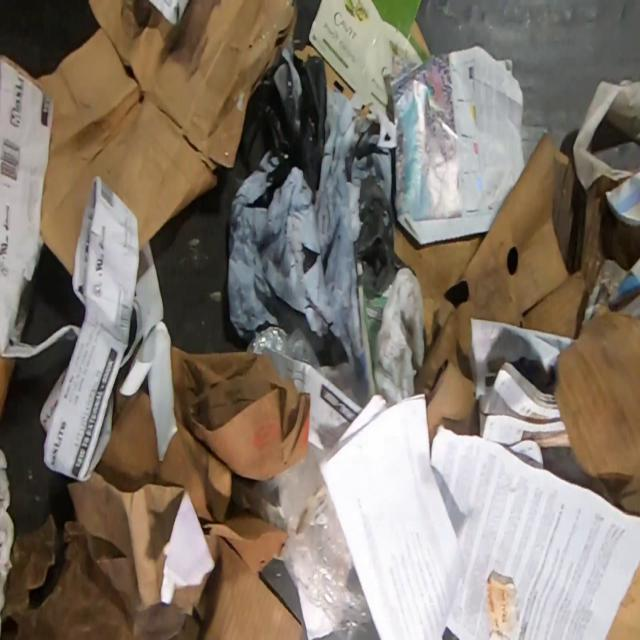cardboard: (36, 0, 298, 276), (394, 129, 606, 454), (96, 345, 311, 579), (66, 471, 304, 640), (554, 308, 640, 487), (309, 0, 424, 113), (294, 44, 354, 102), (602, 562, 640, 640), (410, 20, 430, 58)
soft_plastic: (227, 48, 404, 369), (256, 439, 381, 640), (247, 328, 321, 368)
